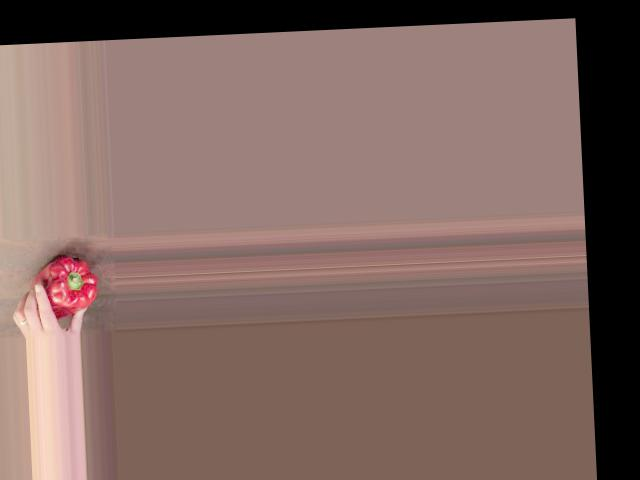bell_pepper: (35, 254, 100, 316)
